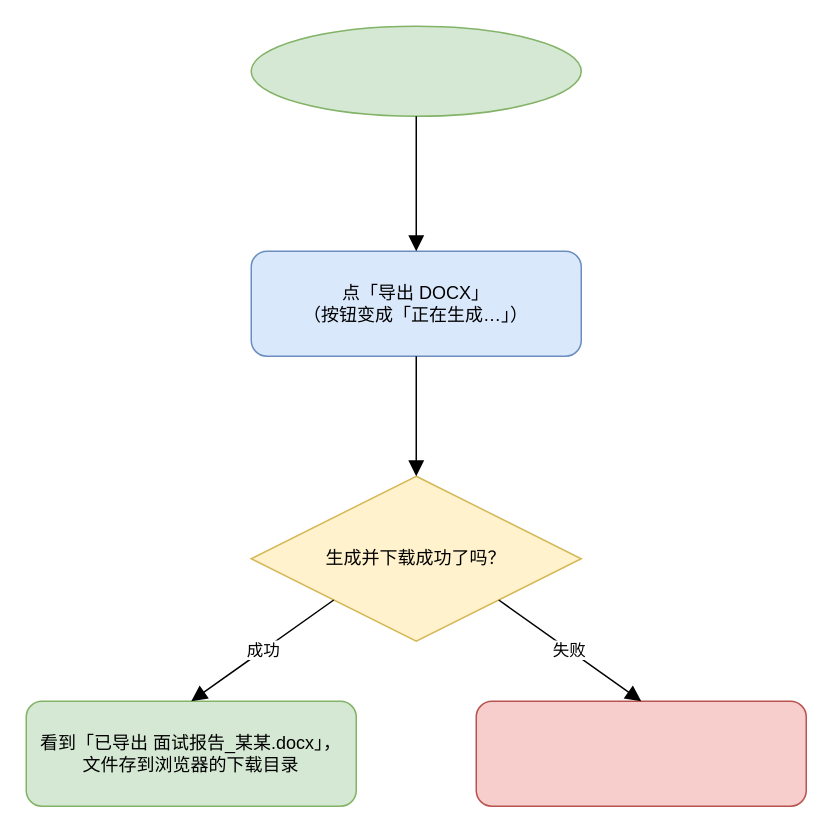
The diagram is 833 pixels wide and 833 high, and some of its shapes have lost their labels. Here are the shapes that lost their labels. From the top down, the centre of each, then its label:
At point 415,70: "在「已评估」的报告页右上角".
At point 640,753: "看到「…（可改用「导出 PDF」）」".
